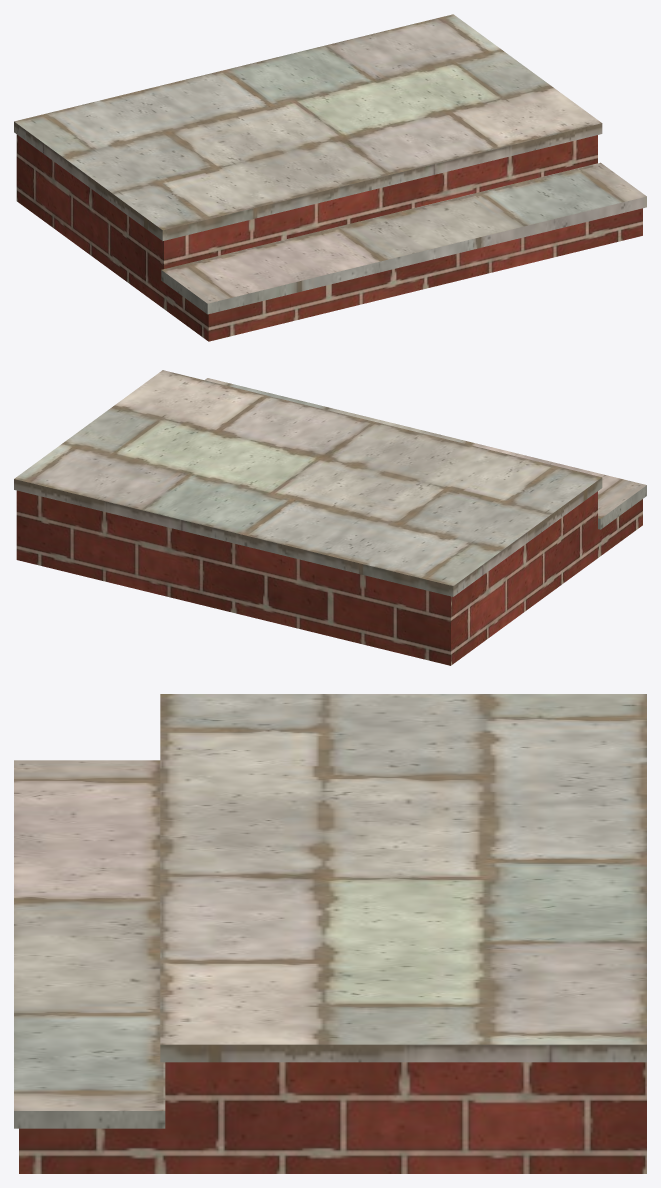
The model's file is front_steps.glb.
3 views of the same model, one above another, from view 1: azimuth 30°, elevation 25°; view 2: azimuth 150°, elevation 25°; view 3: azimuth 270°, elevation 25° (orthographic). The views are drawn at different scales.
Parts seen in each view (by area): view 1: front_steps_cill, front_steps_brick; view 2: front_steps_cill, front_steps_brick; view 3: front_steps_cill, front_steps_brick.
Boxes of the visible parts, box(x1,y1,x2,y2) form: front_steps_cill: box(14, 14, 646, 314); front_steps_brick: box(16, 134, 642, 341); front_steps_cill: box(14, 370, 646, 596); front_steps_brick: box(16, 490, 642, 665); front_steps_cill: box(14, 694, 646, 1128); front_steps_brick: box(19, 1062, 646, 1173).
Bounding box in the file's own units: 1.7 × 0.297 × 1.3.
2 materials, 2 textured.
